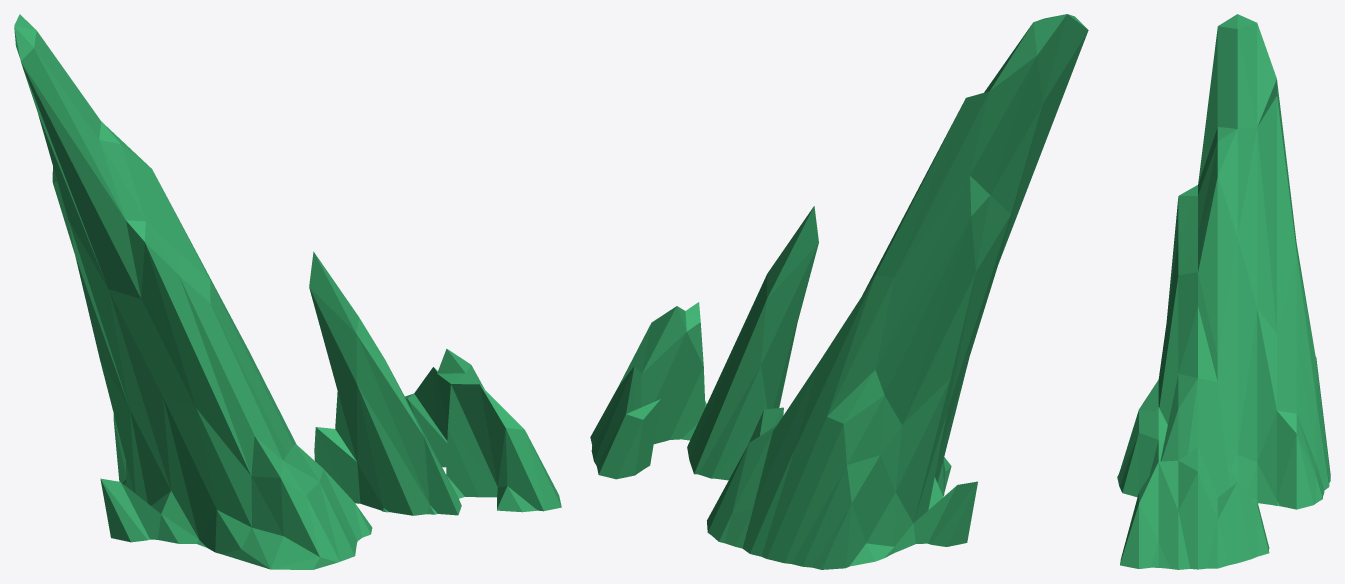
File: Rock_Large_Gem_Jade_Emerald_Spike_Cluster_03.FBX
The picture shows the model from 3 angles, left to right: view 1: azimuth 30°, elevation 25°; view 2: azimuth 150°, elevation 25°; view 3: azimuth 270°, elevation 25°; orthographic projection. The views are drawn at different scales.
Parts seen in each view (by area): view 1: Rock_Large_Gem_Jade_Emerald_Spike_Cluster_03; view 2: Rock_Large_Gem_Jade_Emerald_Spike_Cluster_03; view 3: Rock_Large_Gem_Jade_Emerald_Spike_Cluster_03.
Boxes of the visible parts, <box> form: Rock_Large_Gem_Jade_Emerald_Spike_Cluster_03: <box>14,14,561,569</box>; Rock_Large_Gem_Jade_Emerald_Spike_Cluster_03: <box>590,14,1088,569</box>; Rock_Large_Gem_Jade_Emerald_Spike_Cluster_03: <box>1117,14,1330,569</box>.
Size of the model in its own units: 16581 by 17458 by 8729.
